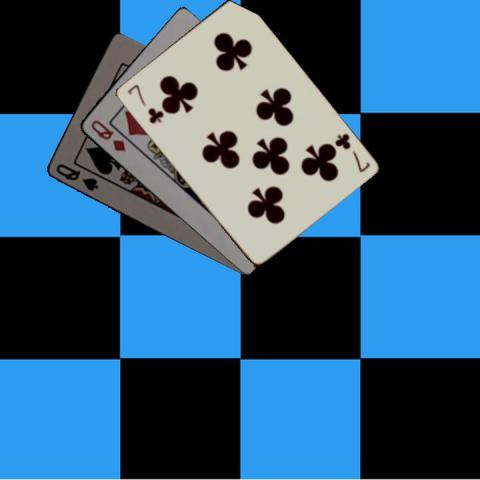7c: (332, 130, 372, 174), (124, 82, 163, 126)
Qd: (87, 117, 127, 153)
Qs: (52, 161, 100, 192)
